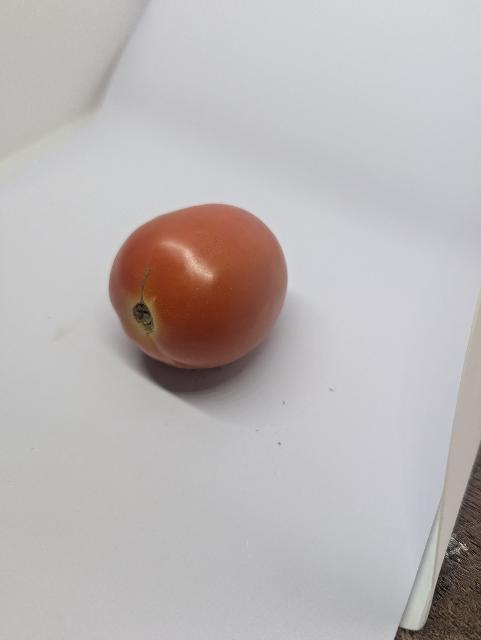red: (98, 194, 297, 381)
